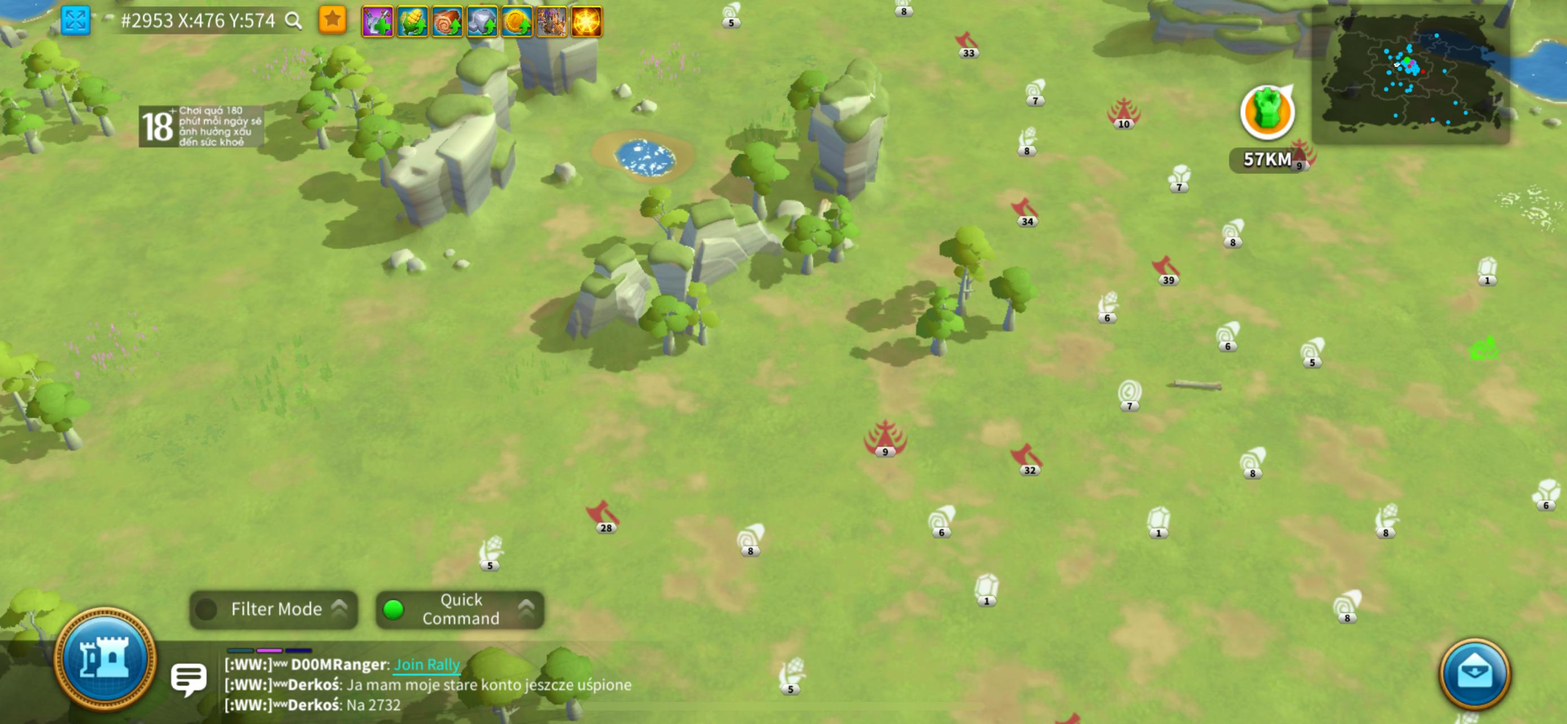gem-z-out: (973, 572, 999, 608), (1146, 504, 1172, 538), (1475, 255, 1499, 288)
